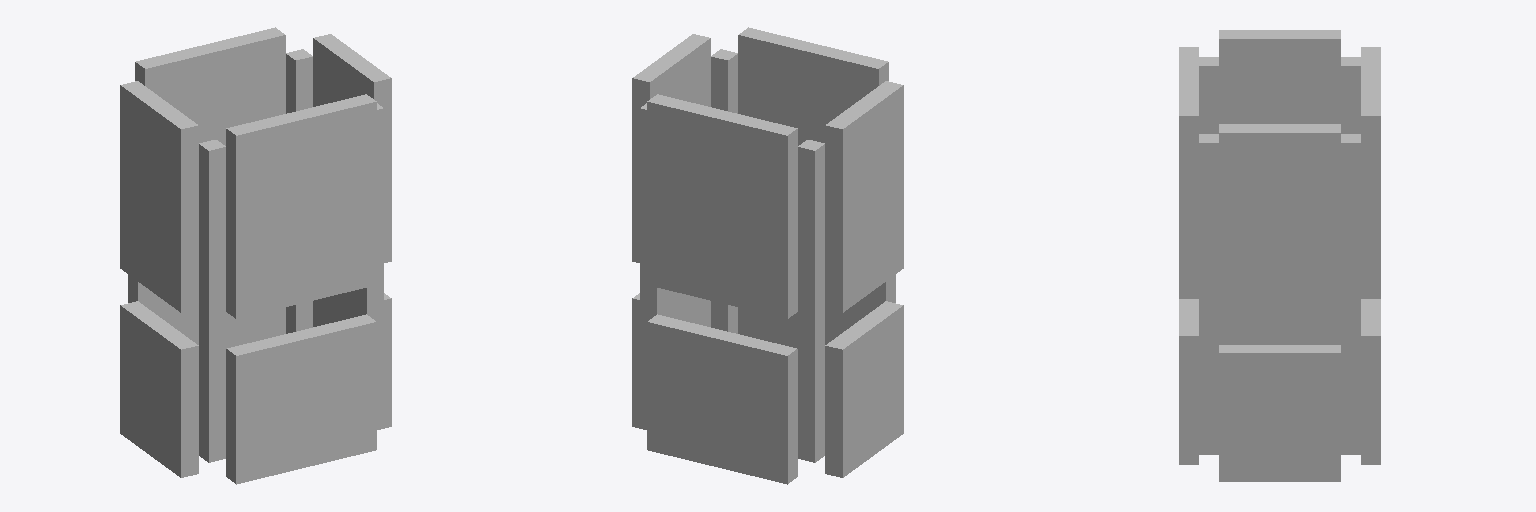
File: cabinet full glass.obj
3 views of the same model, side by side, from view 1: azimuth 30°, elevation 25°; view 2: azimuth 150°, elevation 25°; view 3: azimuth 270°, elevation 25° (orthographic).
Visible parts, largest first — view 1: object 1; view 2: object 1; view 3: object 1.
Part boxes in pixels (x1,y1,x2,y2): object 1: (120, 27, 391, 484); object 1: (632, 27, 903, 484); object 1: (1179, 30, 1380, 481).
Size of the model in its own units: 1.2 by 1.9 by 1.